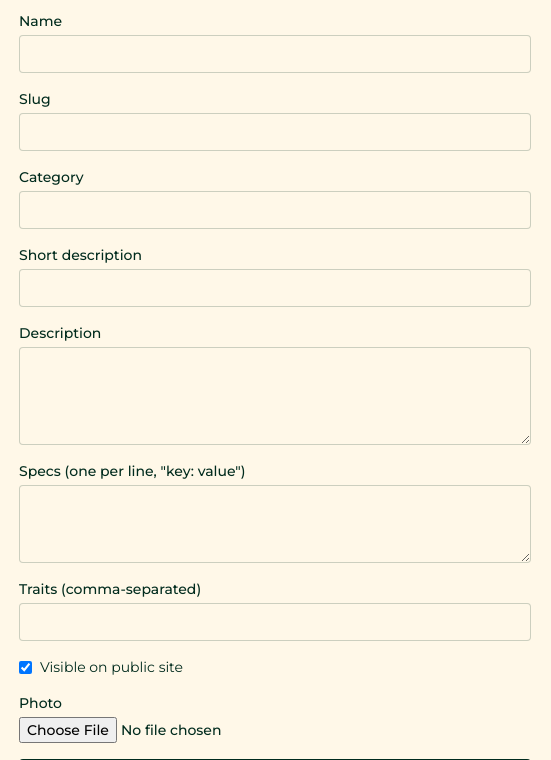
Scenario: ProductForm › auto-generates a slug from the name
Type "Hybrid Maize Seed" into the field labelled "Name".
click(275, 54); type("Hybrid Maize Seed")  # box [19, 35, 531, 73]
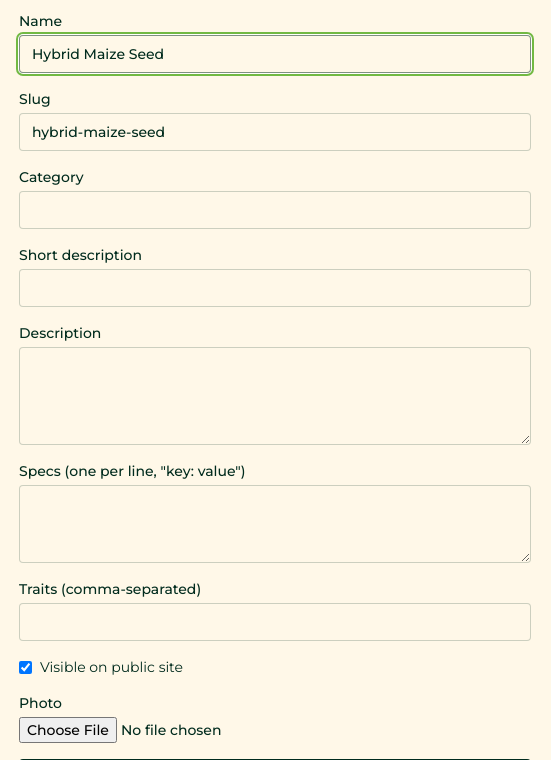
Expected: the field labelled "Slug" holds "hybrid-maize-seed", [19, 113, 531, 151]
